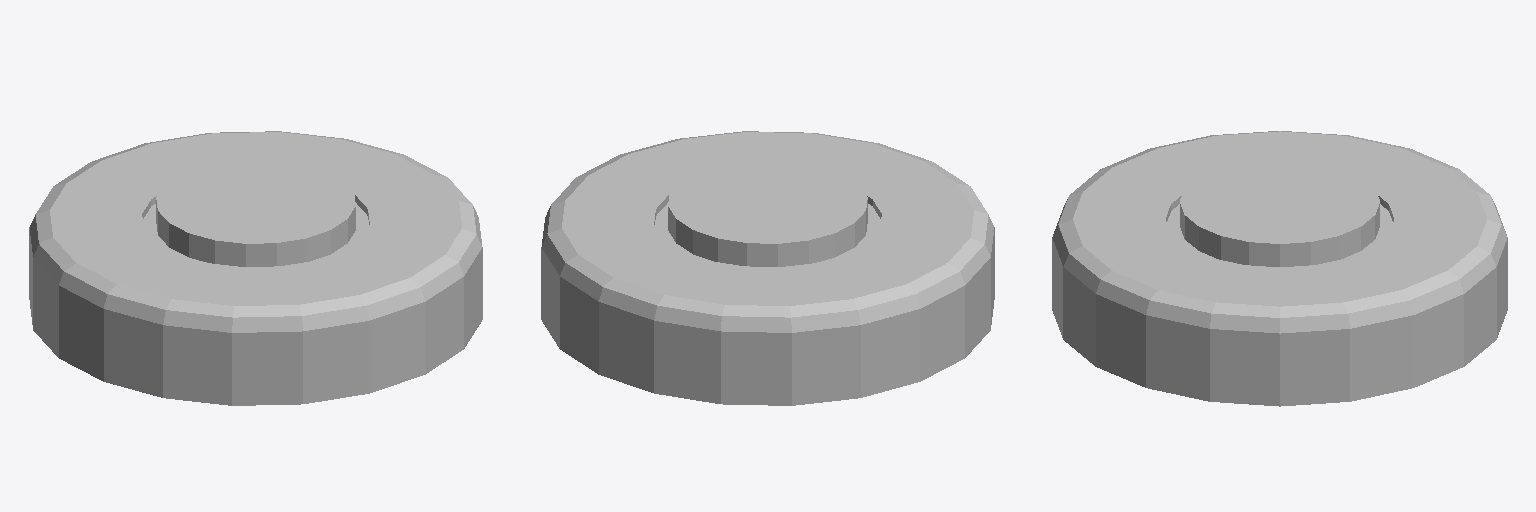
The model's file is dustbot.obj.
3 renders of one model, left to right at view 1: azimuth 30°, elevation 25°; view 2: azimuth 150°, elevation 25°; view 3: azimuth 270°, elevation 25°, orthographic.
Parts seen in each view (by area): view 1: dustbot:pCylinder1; view 2: dustbot:pCylinder1; view 3: dustbot:pCylinder1.
Boxes of the visible parts, box(x1,y1,x2,y2) form: dustbot:pCylinder1: box(29, 131, 482, 405); dustbot:pCylinder1: box(541, 131, 994, 405); dustbot:pCylinder1: box(1052, 131, 1507, 406).
Bounding box in the file's own units: 10 × 2.63 × 10.